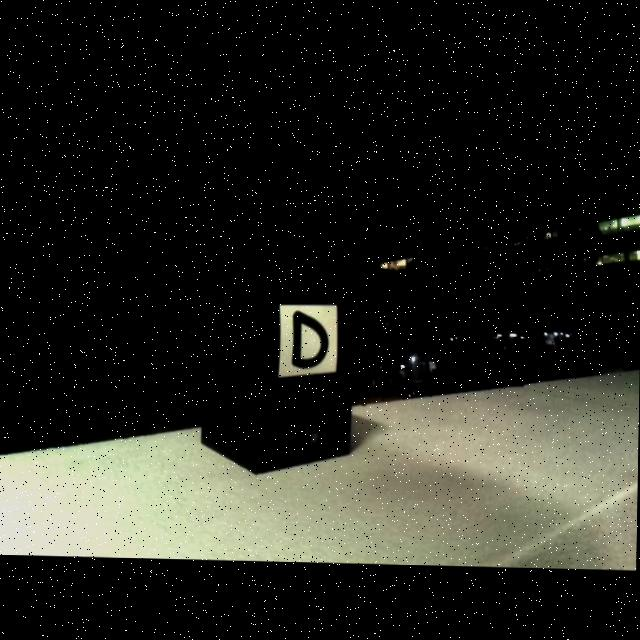D: (291, 310, 329, 368)
